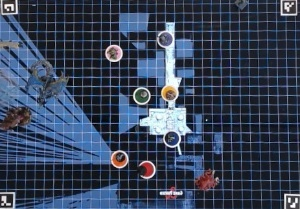blue: (161, 130, 184, 148)
green: (130, 84, 153, 107)
orange: (110, 149, 130, 169)
pink: (101, 43, 124, 63)
red: (136, 159, 157, 178)
violet: (154, 30, 174, 47)
yellow: (160, 85, 177, 103)
